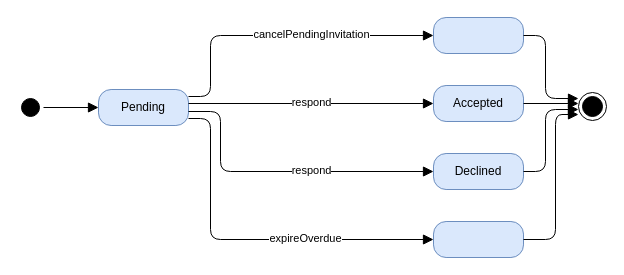
The diagram is 624 pixels wide and 275 high, and some of its shapes have lost their labels. The shapes that lost their labels are listed below. From the top down, each one's box as (x1, y1, x2, y2) in pixels, then its label:
(432, 16, 524, 54): Cancelled
(432, 220, 524, 258): Expired
